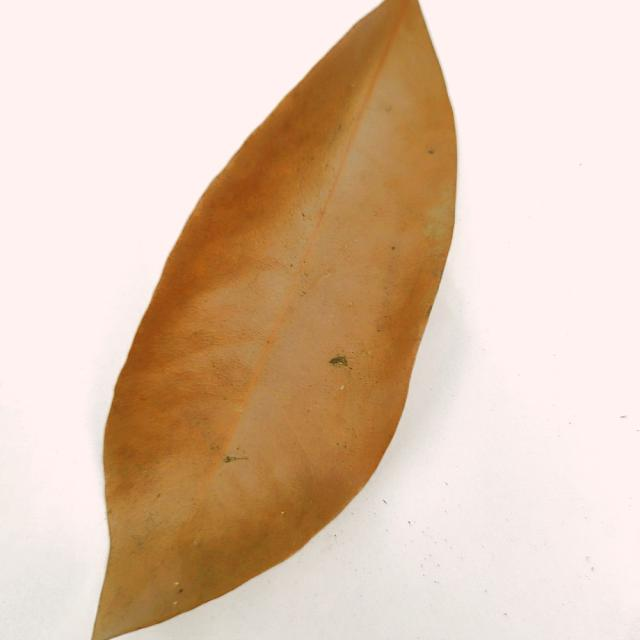Dry_Leaf-Lychee: (90, 0, 460, 639)
